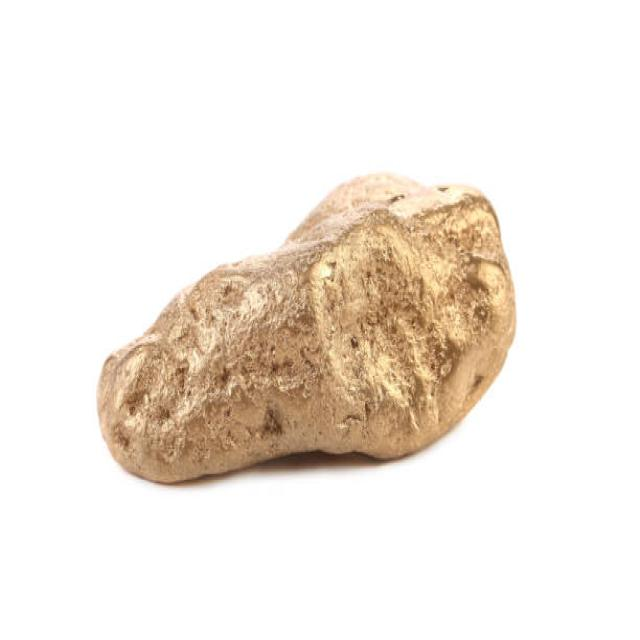paper: (65, 178, 542, 518)
